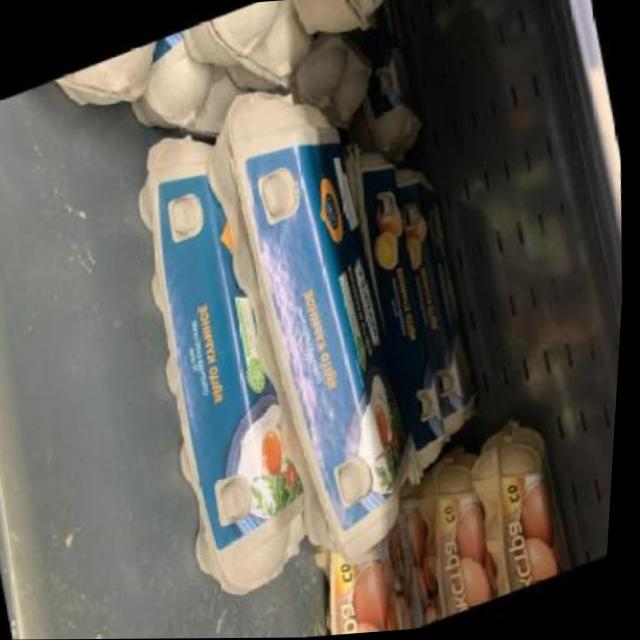Egg: (178, 57, 458, 586), (104, 105, 340, 604), (340, 141, 469, 473), (379, 146, 497, 442), (461, 402, 588, 600), (400, 436, 513, 625)
